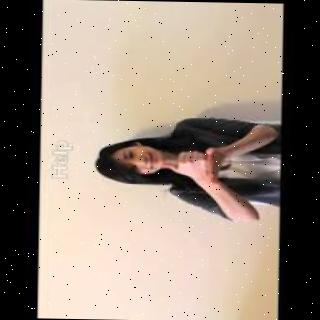Help: (156, 131, 236, 179)
